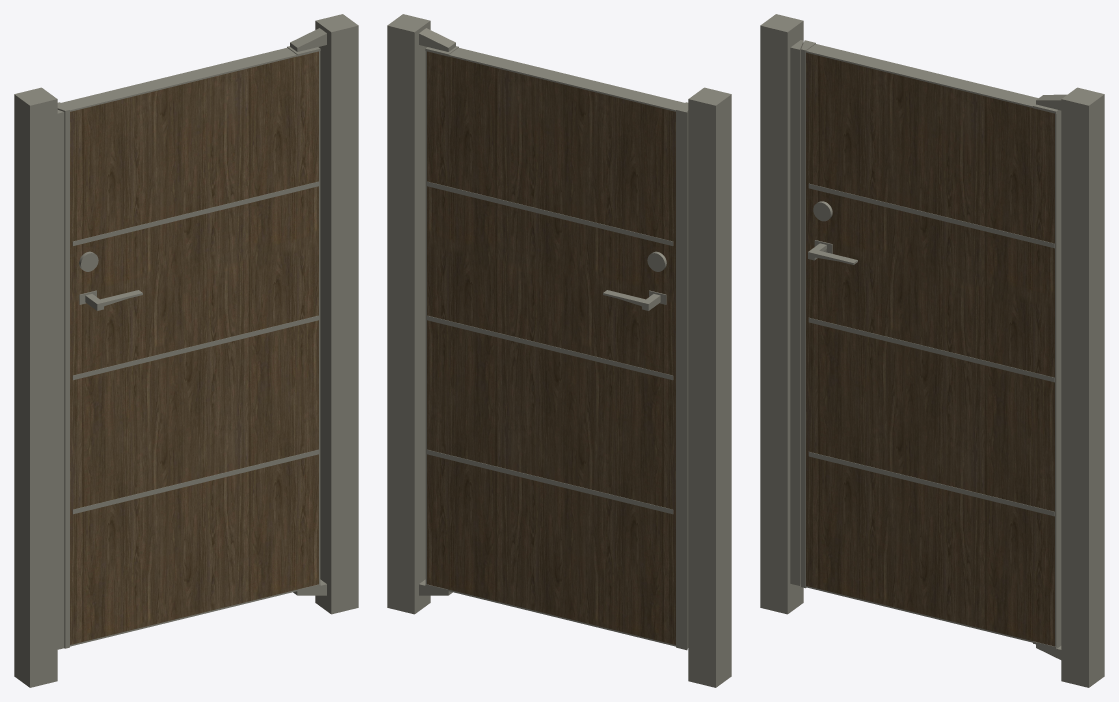
File: abmonpi-line_h1400-w700_brownebony.fbx
3 renders of one model, left to right at view 1: azimuth 30°, elevation 25°; view 2: azimuth 150°, elevation 25°; view 3: azimuth 330°, elevation 25°, orthographic.
Parts seen in each view (by area): view 1: abmonpi-line_h1400-w700_rustycopper.002; view 2: abmonpi-line_h1400-w700_rustycopper.002; view 3: abmonpi-line_h1400-w700_rustycopper.002.
Boxes of the visible parts, box(x1,y1,x2,y2) form: abmonpi-line_h1400-w700_rustycopper.002: box(14, 14, 358, 687); abmonpi-line_h1400-w700_rustycopper.002: box(387, 14, 731, 687); abmonpi-line_h1400-w700_rustycopper.002: box(760, 14, 1104, 687).
Size of the model in its own units: 89.8 by 152 by 16.7.
2 materials, 2 textured.
